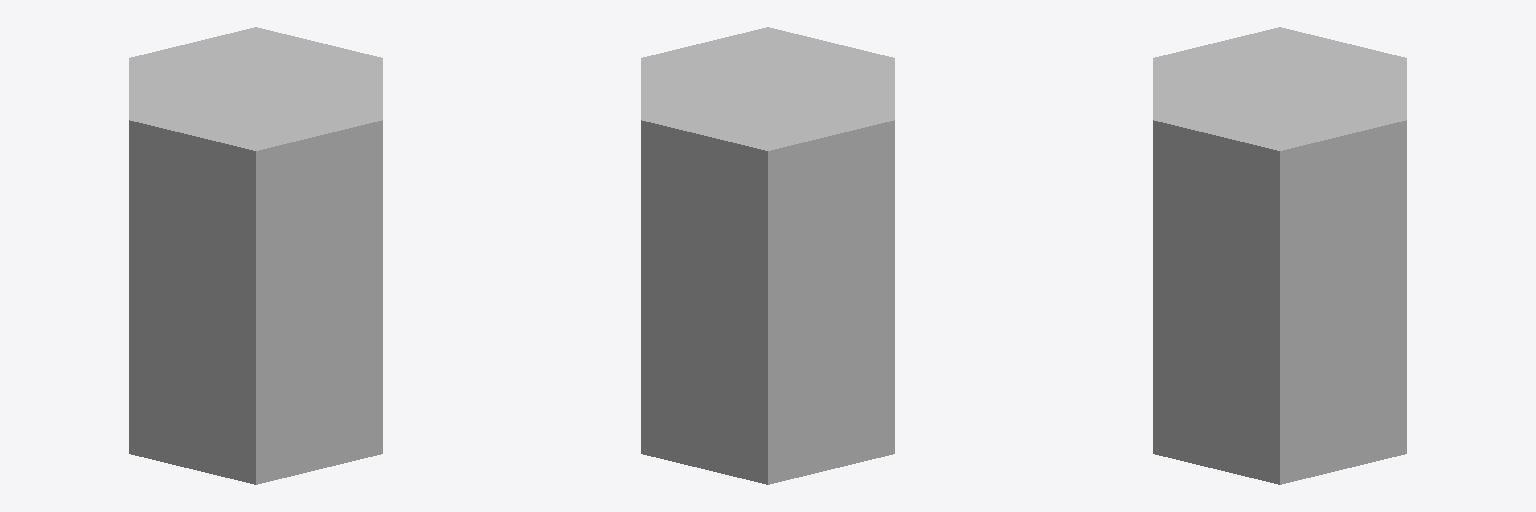
The model's file is polygon.obj.
The picture shows the model from 3 angles: view 1: azimuth 30°, elevation 25°; view 2: azimuth 150°, elevation 25°; view 3: azimuth 270°, elevation 25°; orthographic projection.
Parts seen in each view (by area): view 1: Cylinder001; view 2: Cylinder001; view 3: Cylinder001.
Part boxes in pixels (x1,y1,x2,y2): Cylinder001: (129,27,382,484); Cylinder001: (641,27,894,484); Cylinder001: (1153,27,1406,484).
Bounding box in the file's own units: 1.61 × 2.02 × 1.39.